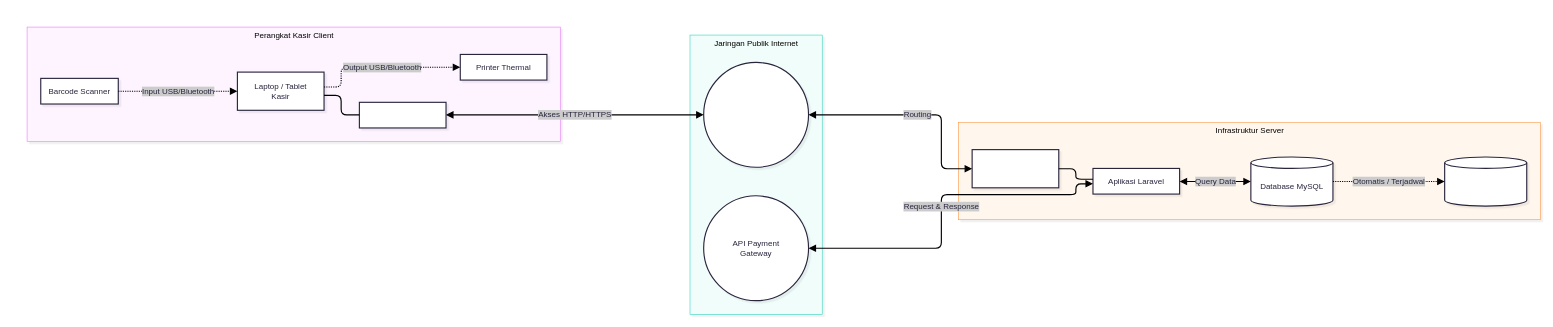
Image size: 1553x327. Some labels were removed from this diagram. The centre of each missing label's shape, as x and y in pixels:
"Backup Database" belongs at [1486,182].
"Domain / Subdomain" belongs at [757,116].
"Web Browser" belongs at [404,116].
"Web Server Nginx/Apache" belongs at [1016,169].
